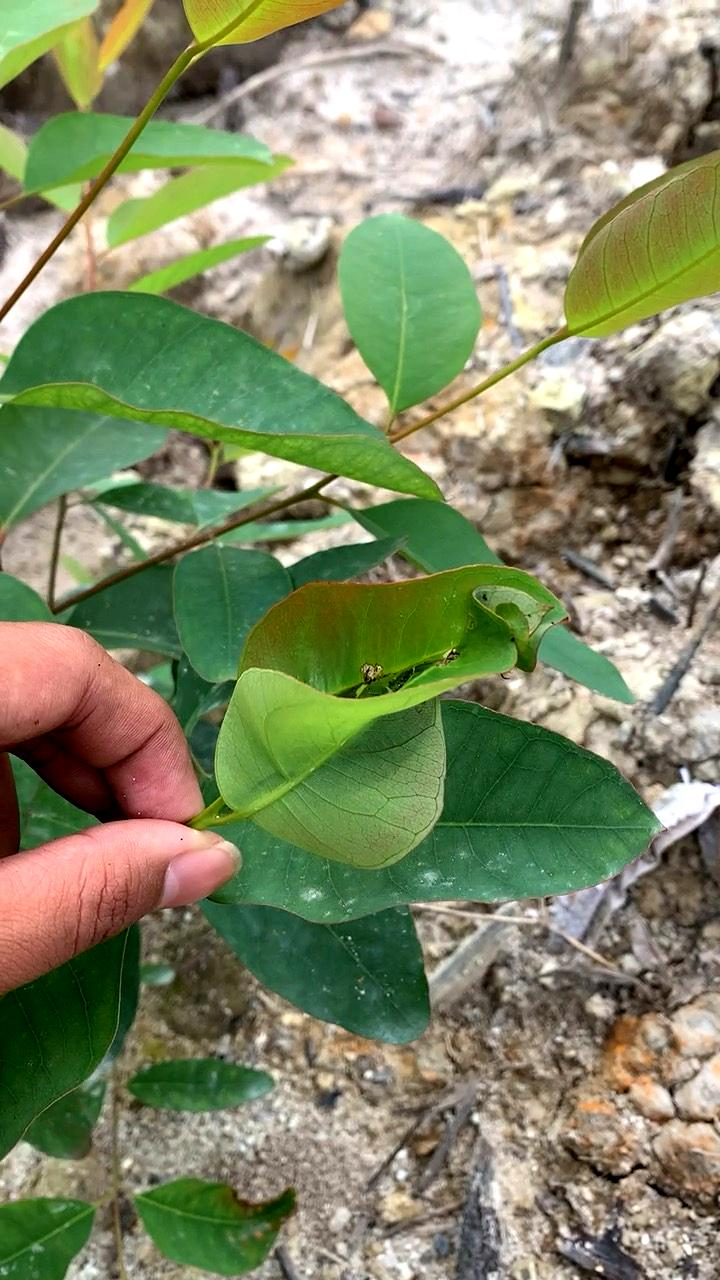Leaf Roller - Leaf: (211, 563, 571, 880)
